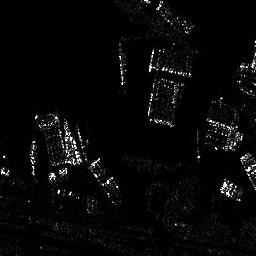ship: (83, 152, 122, 202)
